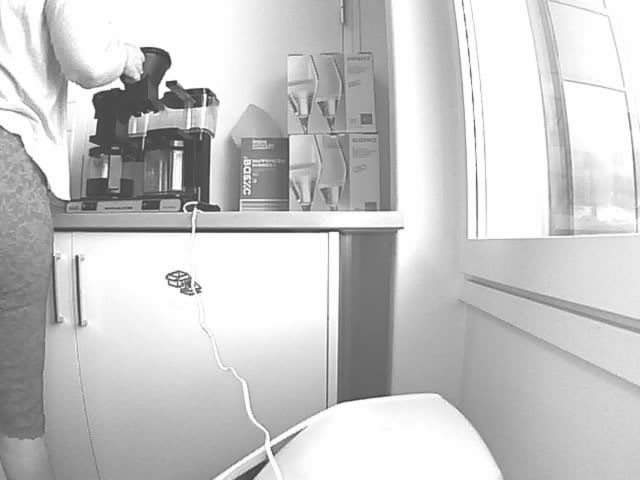not empty coffee: (80, 145, 138, 197)
